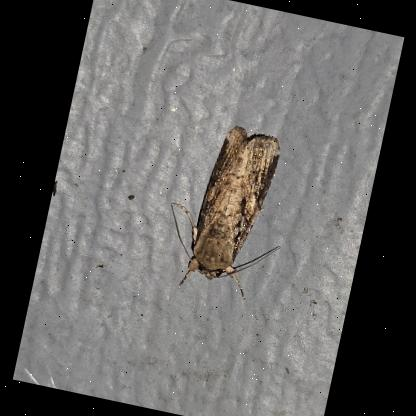Fall Armyworm Moth: (151, 113, 306, 309)
